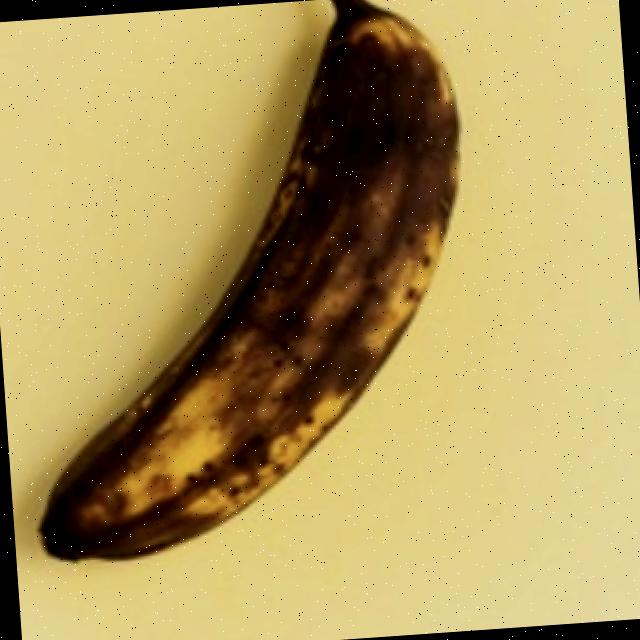Rotten: (0, 0, 515, 587)
